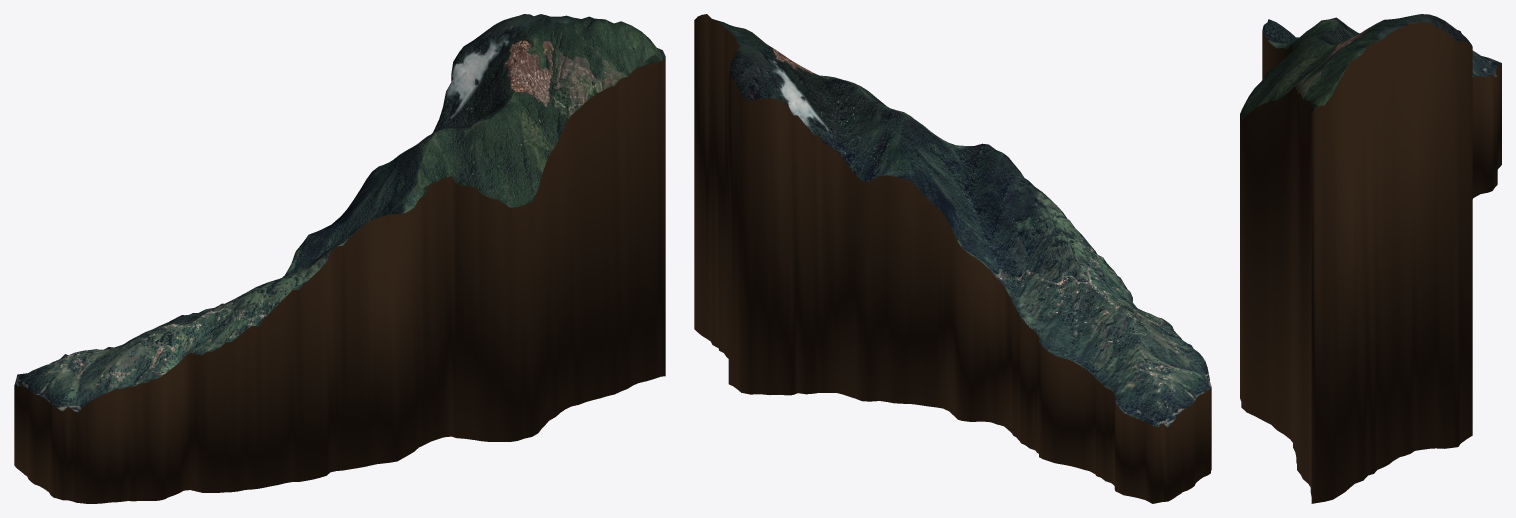
The model's file is PotreraMiserenga.fbx.
3 renders of one model, left to right at view 1: azimuth 30°, elevation 25°; view 2: azimuth 150°, elevation 25°; view 3: azimuth 270°, elevation 25°, orthographic. The views are drawn at different scales.
Parts seen in each view (by area): view 1: Potrera Miserenga; view 2: Potrera Miserenga; view 3: Potrera Miserenga.
Part boxes in pixels (x1,y1,x2,y2): Potrera Miserenga: (14,14,665,503); Potrera Miserenga: (694,14,1211,503); Potrera Miserenga: (1240,14,1501,503).
Size of the model in its own units: 518770 by 299961 by 165219.
3 materials, 2 textured.
